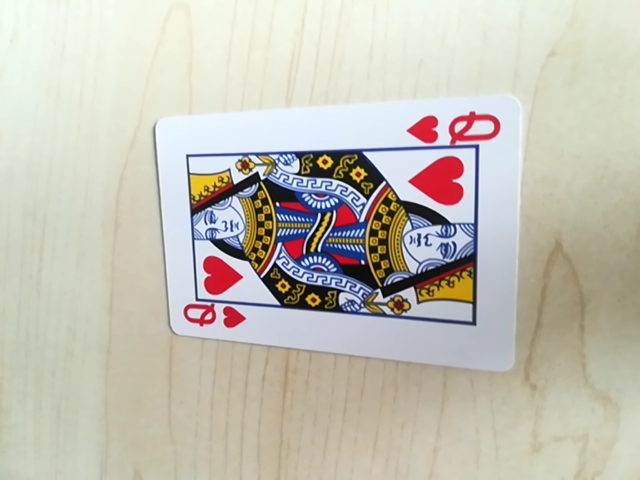hx q: (406, 106, 504, 150), (180, 299, 248, 334)
